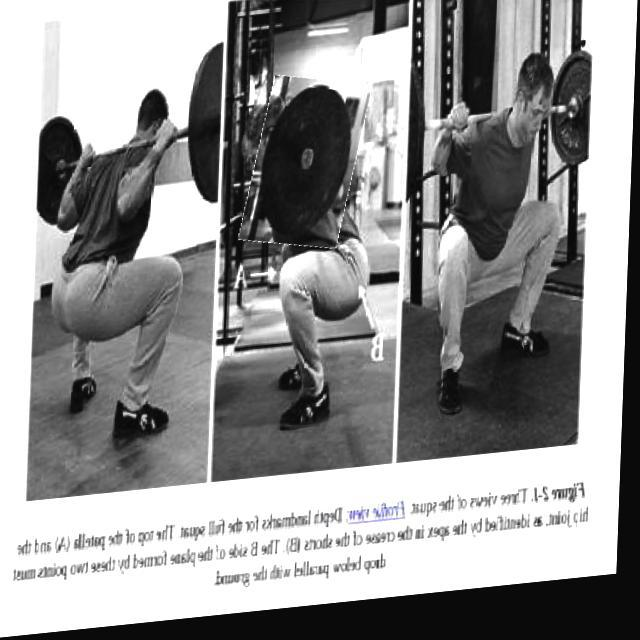barbell: (248, 79, 368, 260)
